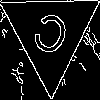C: (25, 8, 72, 67)
